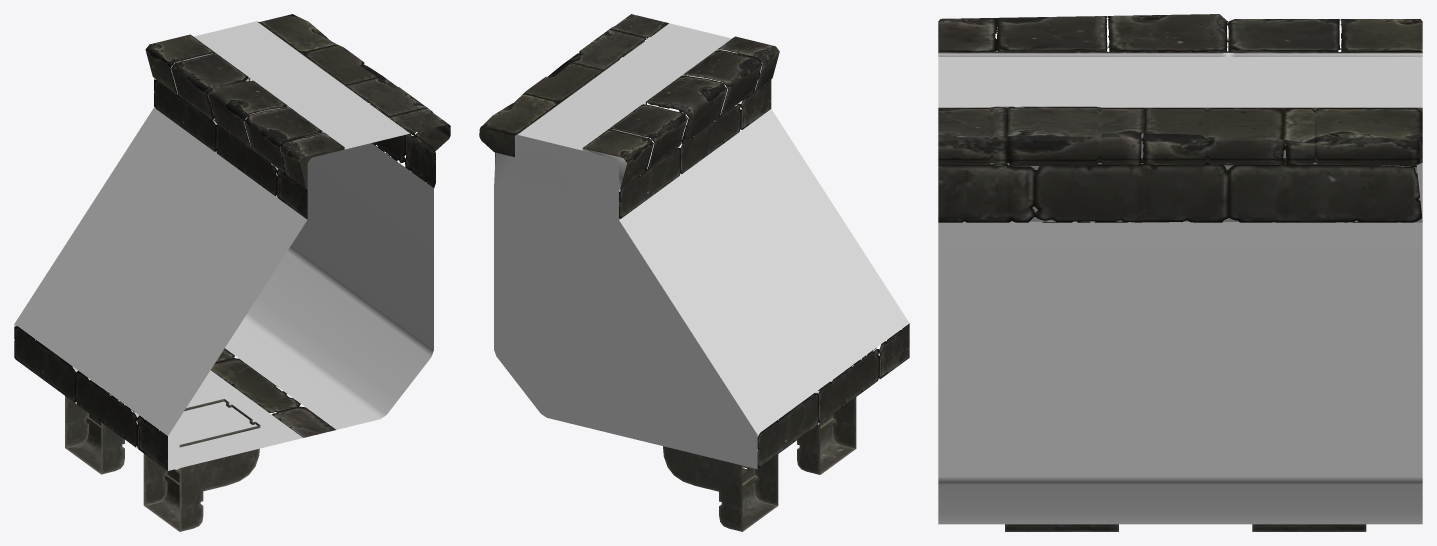
3 renders of one model, left to right at view 1: azimuth 30°, elevation 25°; view 2: azimuth 150°, elevation 25°; view 3: azimuth 270°, elevation 25°, orthographic. The views are drawn at different scales.
Parts seen in each view (by area): view 1: SM_Greathall_Stepout_4x4_01_LOD0; view 2: SM_Greathall_Stepout_4x4_01_LOD0; view 3: SM_Greathall_Stepout_4x4_01_LOD0.
Boxes of the visible parts, bbox=[...] form: SM_Greathall_Stepout_4x4_01_LOD0: bbox=[14, 14, 450, 531]; SM_Greathall_Stepout_4x4_01_LOD0: bbox=[479, 14, 909, 531]; SM_Greathall_Stepout_4x4_01_LOD0: bbox=[938, 14, 1422, 531].
Size of the model in its own units: 4.26 by 5.32 by 4.
3 materials, 2 textured.
